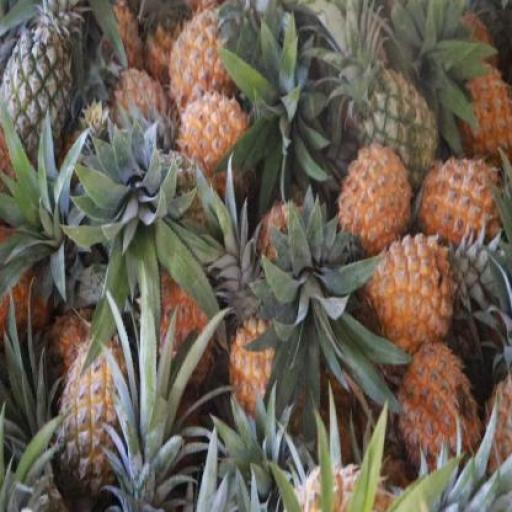------------------------------: (60, 343, 128, 496)
Pineapple - v8 v1: (392, 339, 482, 470), (368, 236, 454, 358), (339, 148, 415, 262), (419, 158, 502, 254), (169, 14, 240, 116), (178, 89, 250, 176)
